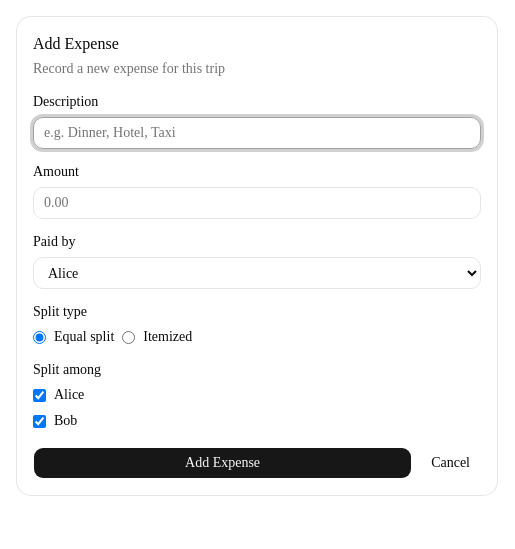
AddExpenseFormView › shows amount invalid error for partial string input
Step 1. Type "Dinner" into the field with placeholder "e.g. Dinner, Hotel, Taxi" → [257, 133], box top-left (33, 117), bottom-right (481, 149)
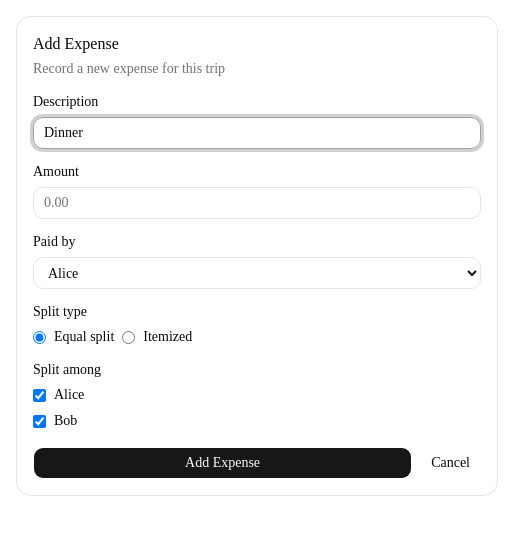
Step 2. Type "10abc" into the field with placeholder "0.00" → [257, 203], box top-left (33, 187), bottom-right (481, 219)
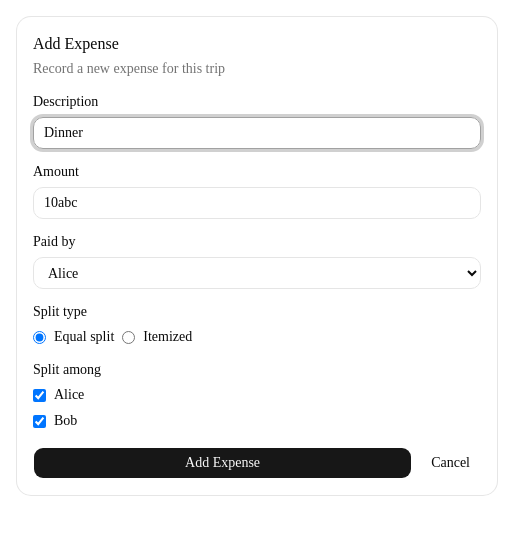
Step 3. Click the button "Add Expense" → [223, 463], box top-left (33, 447), bottom-right (412, 479)
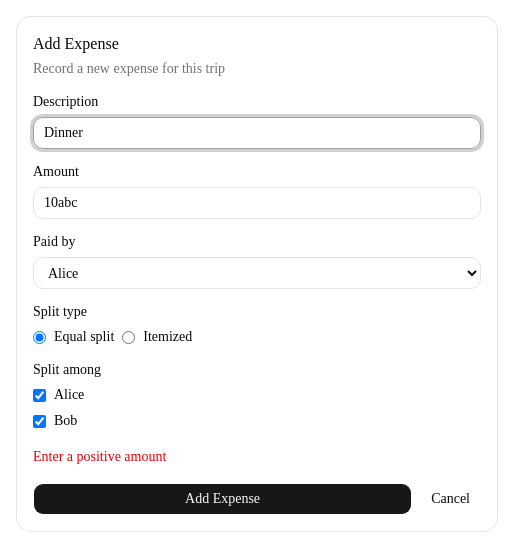
Expected: the text "Enter a positive amount" is shown, top-left (33, 449), bottom-right (166, 464)
